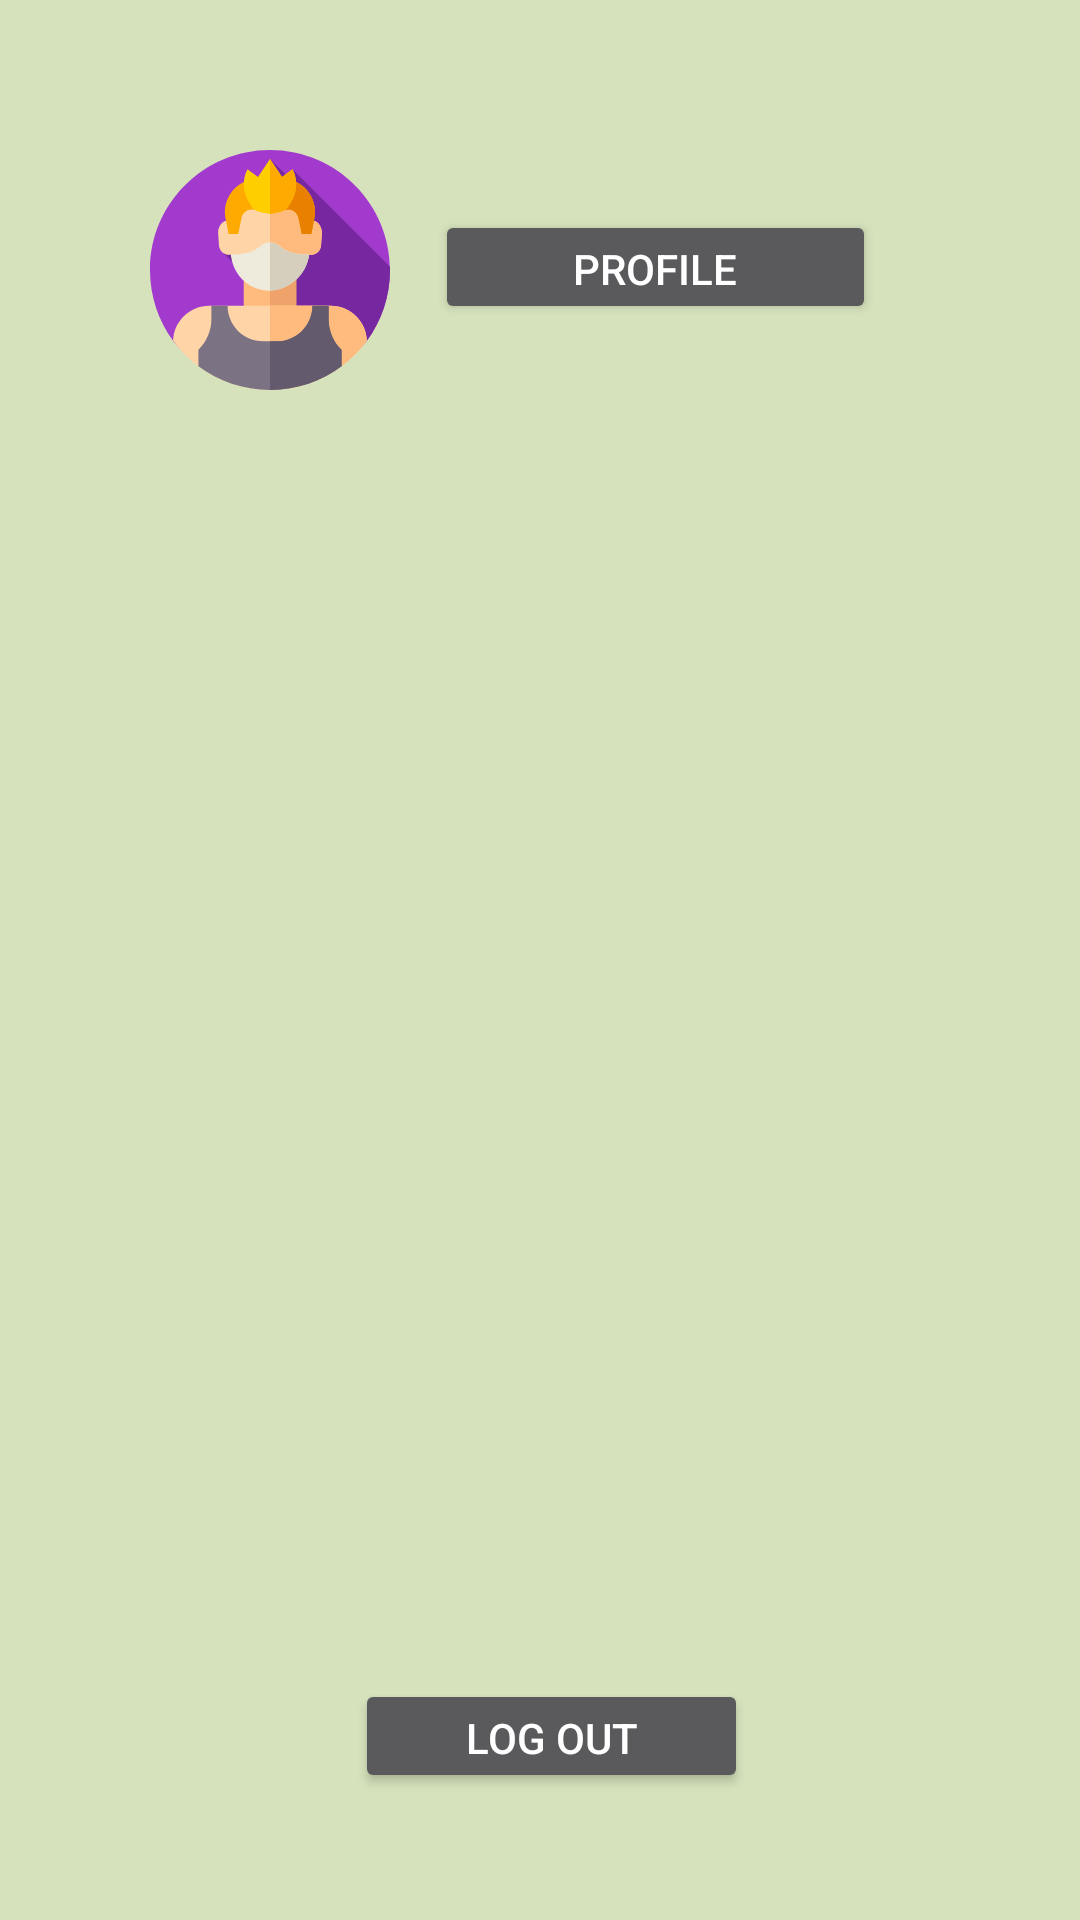

Where icons sit on this 1080 × 1920 app screen, as rect(x1, y1, x2, y2):
boy: rect(150, 150, 390, 390)
